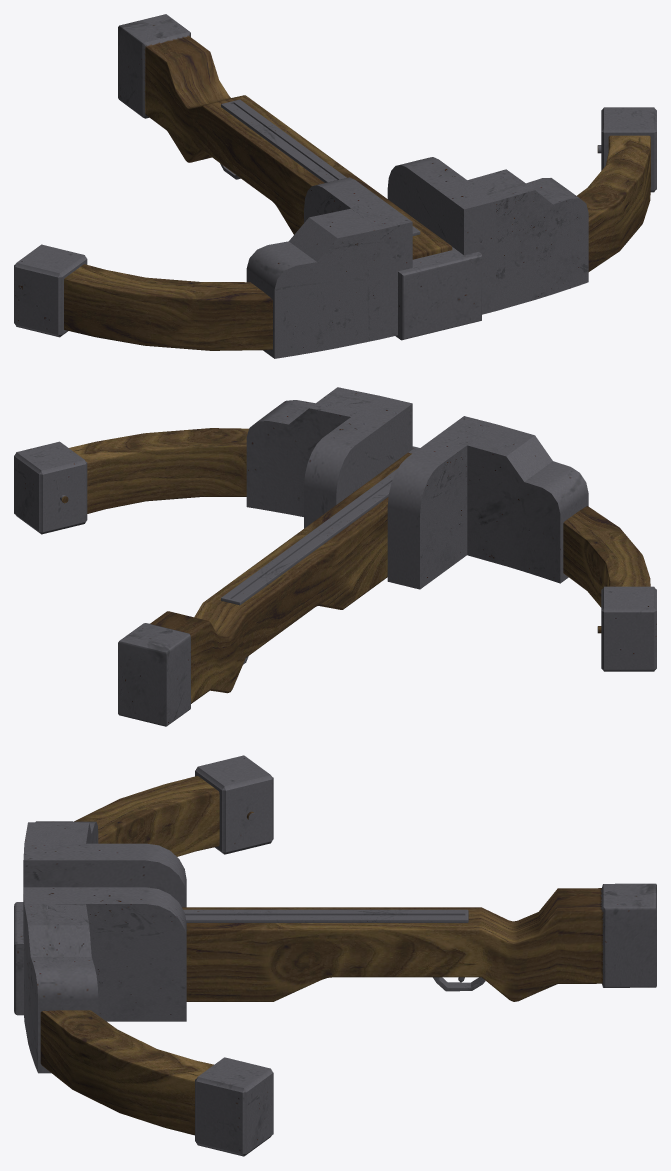
File: base_xbow.fbx
3 renders of one model, top to bottom at view 1: azimuth 30°, elevation 25°; view 2: azimuth 150°, elevation 25°; view 3: azimuth 270°, elevation 25°, orthographic. The views are drawn at different scales.
Parts seen in each view (by area): view 1: xBOW; view 2: xBOW; view 3: xBOW.
Boxes of the visible parts, x1,y1,x2,y2 form: xBOW: [14, 14, 656, 358]; xBOW: [14, 387, 656, 726]; xBOW: [14, 755, 656, 1156].
Size of the model in its own units: 9.77 by 1.64 by 7.92.
